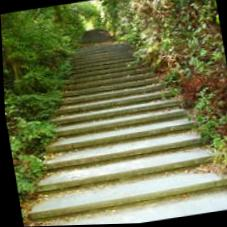Bench: (30, 94, 221, 211)
